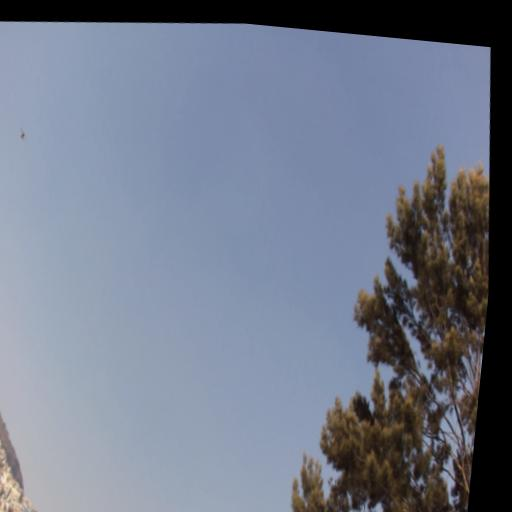drones: (16, 123, 31, 146)
